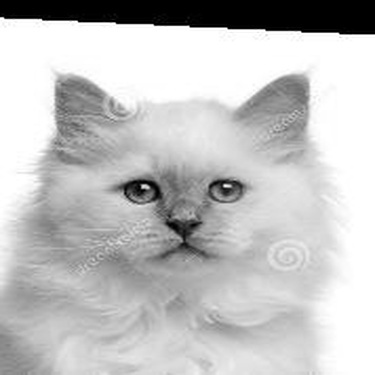cat: (9, 65, 328, 365)
